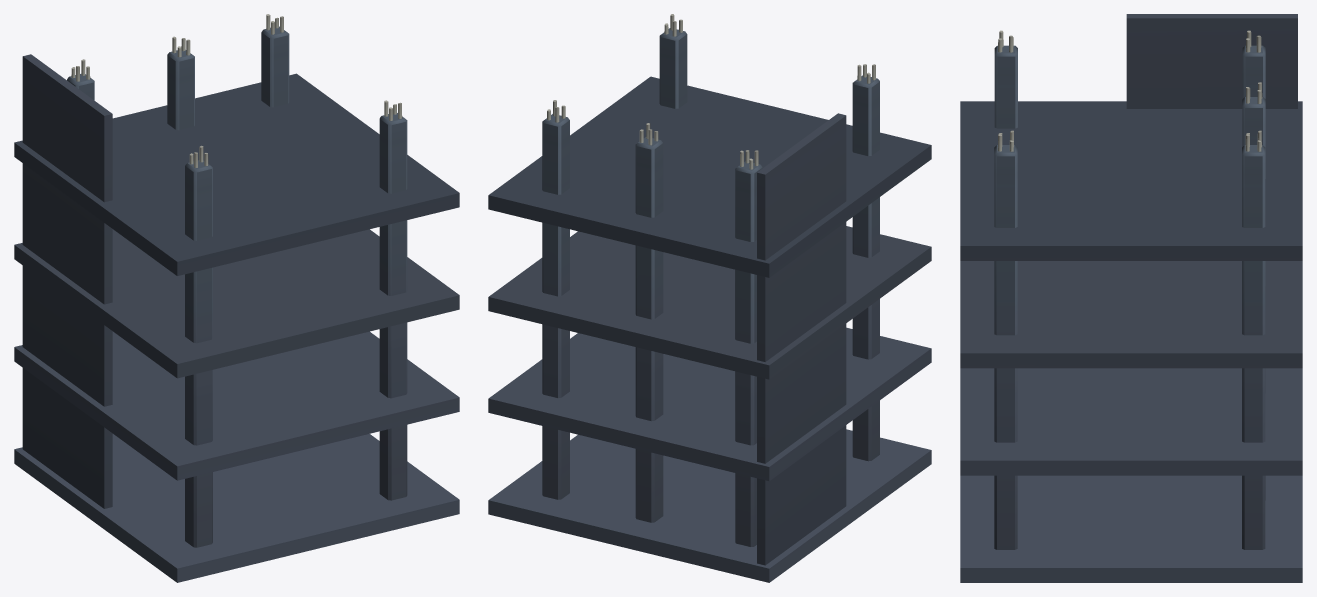
The model's file is cBuilding_2_2.obj.
The picture shows the model from 3 angles, left to right: view 1: azimuth 30°, elevation 25°; view 2: azimuth 150°, elevation 25°; view 3: azimuth 270°, elevation 25°; orthographic projection. The views are drawn at different scales.
Visible parts, largest first — view 1: cBuilding_2_2; view 2: cBuilding_2_2; view 3: cBuilding_2_2.
Boxes of the visible parts, box(x1,y1,x2,y2) form: cBuilding_2_2: box(14, 14, 459, 582); cBuilding_2_2: box(488, 14, 931, 582); cBuilding_2_2: box(960, 14, 1302, 582).
Bounding box in the file's own units: 8.17 × 11.26 × 8.17.
